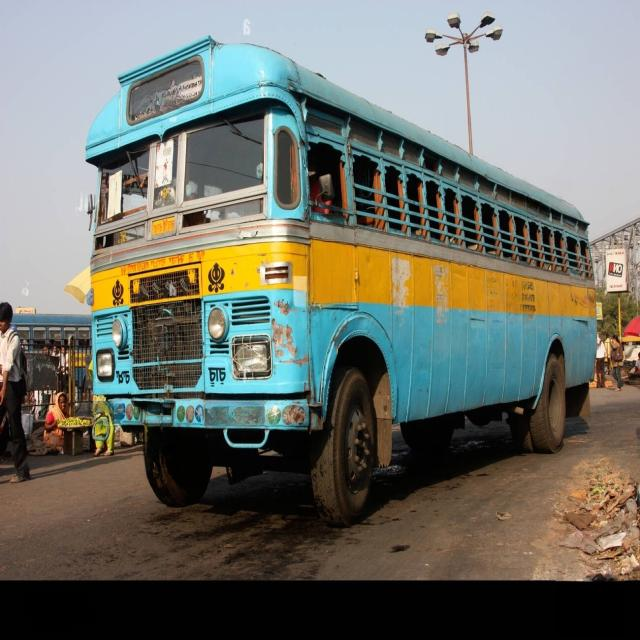bus: (86, 37, 596, 525)
